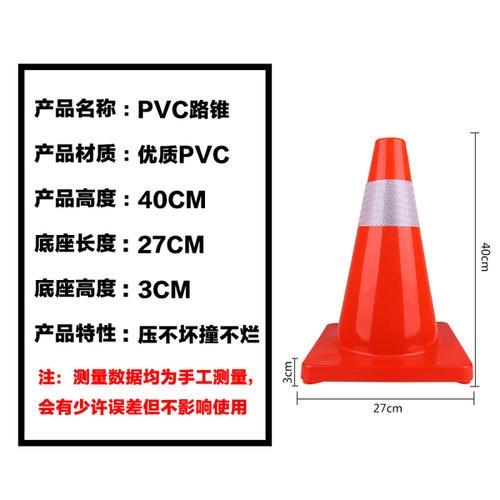cone_barrel: (328, 144, 449, 363)
